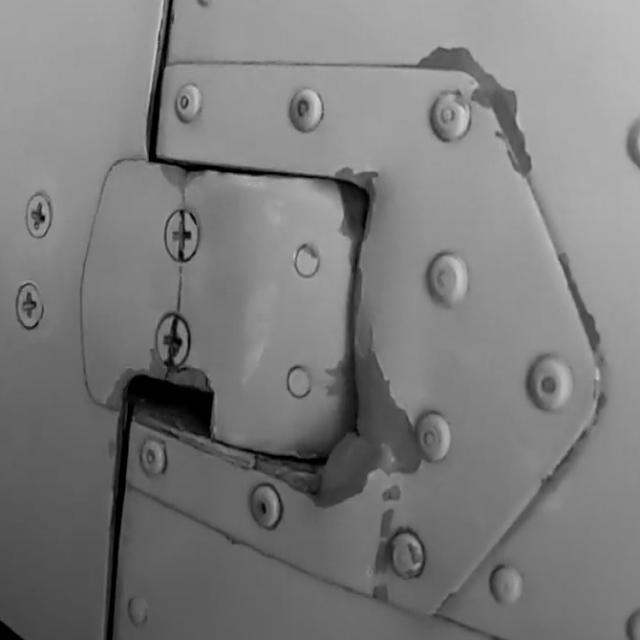crack: (167, 258, 192, 312)
